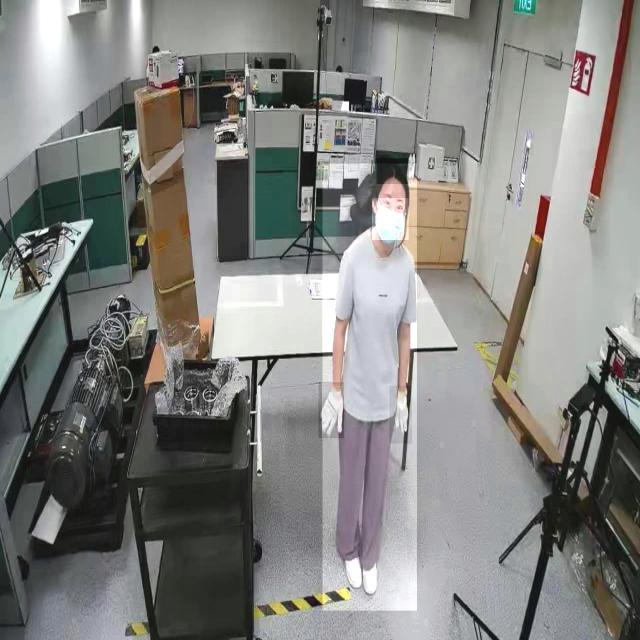face_mask: (372, 198, 408, 240)
glasses: (378, 197, 408, 223)
hand_glove: (318, 382, 344, 439), (389, 386, 412, 444)
head_nohelmet: (376, 158, 409, 185)
person: (322, 164, 417, 612)
shoes: (342, 538, 363, 592), (360, 538, 380, 594)
